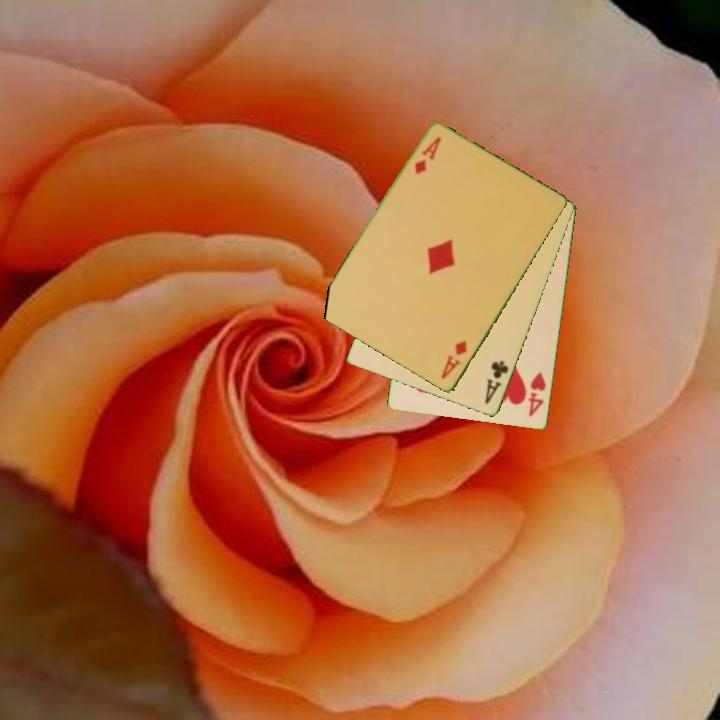4h: (524, 368, 549, 420)
Ac: (481, 358, 512, 407)
Ad: (411, 133, 444, 178), (438, 338, 470, 383)
